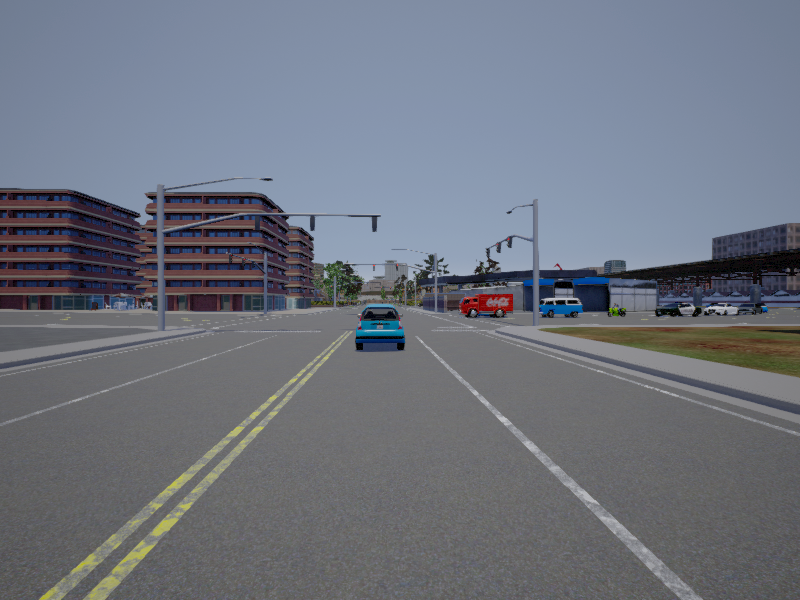Benign: (355, 306, 405, 349), (458, 292, 514, 319), (538, 297, 586, 319), (657, 301, 701, 318), (705, 301, 738, 317), (739, 303, 764, 315)
